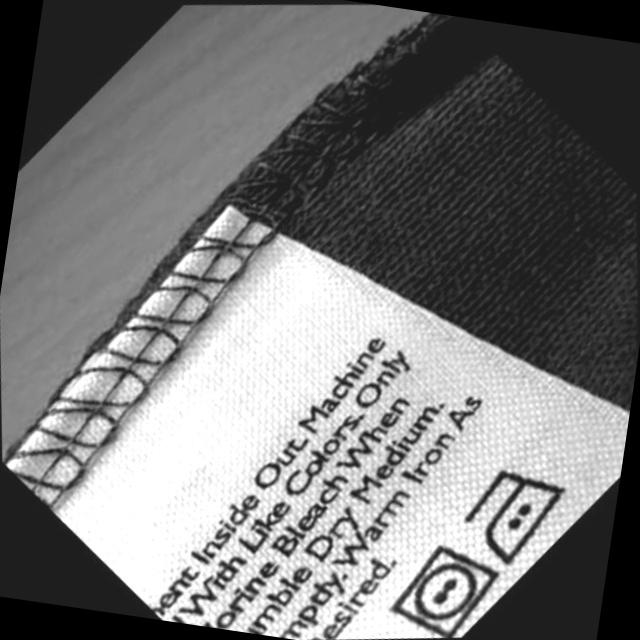iron_medium: (452, 453, 586, 578)
tumble_dry_medium: (379, 530, 516, 640)
